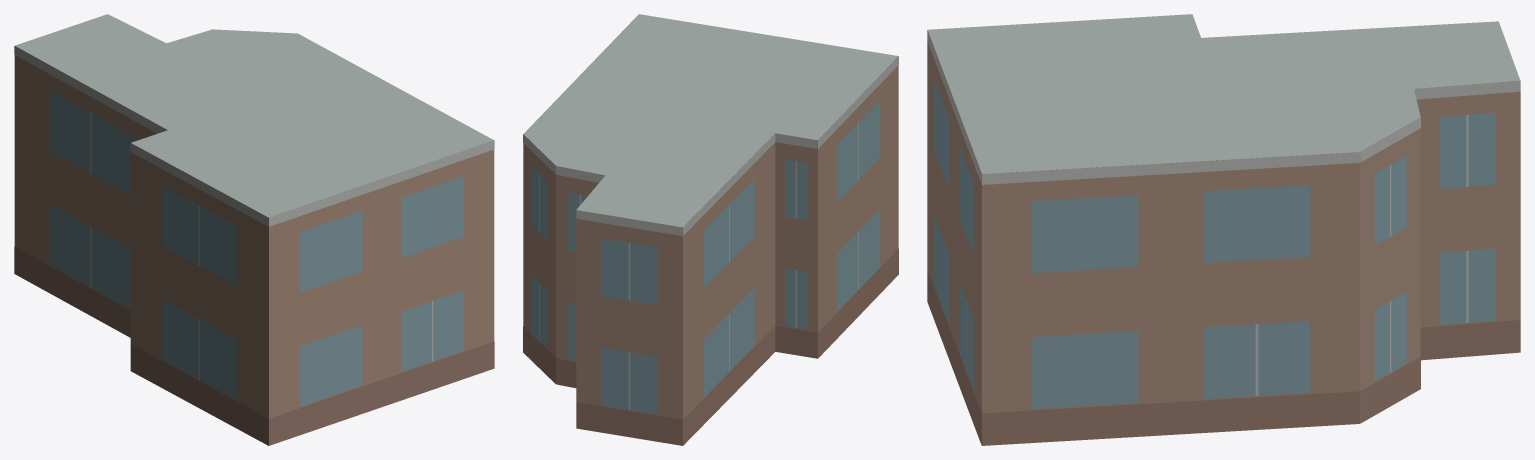
Rendered from survey-upis-32820268.glb.
The picture shows the model from 3 angles, left to right: view 1: azimuth 30°, elevation 25°; view 2: azimuth 150°, elevation 25°; view 3: azimuth 270°, elevation 25°; orthographic projection. The views are drawn at different scales.
Visible parts, largest first — view 1: survey-upis-32820268.tmp; view 2: survey-upis-32820268.tmp; view 3: survey-upis-32820268.tmp.
Part boxes in pixels (bbox=[...]): survey-upis-32820268.tmp: bbox=[14, 14, 494, 445]; survey-upis-32820268.tmp: bbox=[523, 14, 898, 445]; survey-upis-32820268.tmp: bbox=[927, 14, 1520, 445].
Size of the model in its own units: 7.72 by 6.1 by 12.08.
